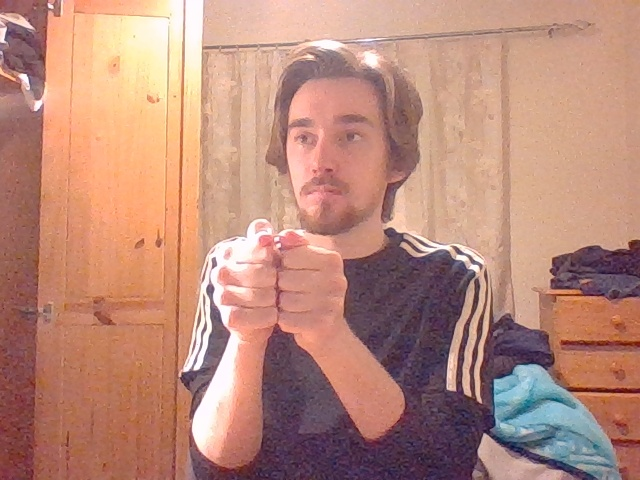brother: (217, 218, 346, 336)
